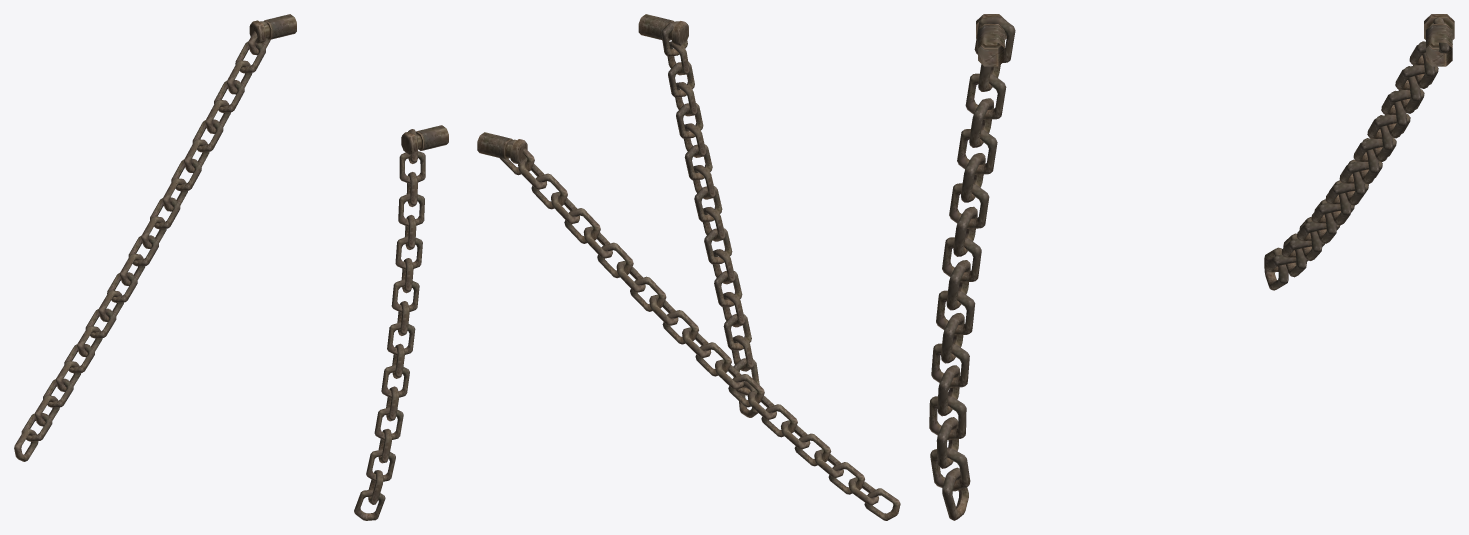
The picture shows the model from 3 angles, left to right: view 1: azimuth 30°, elevation 25°; view 2: azimuth 150°, elevation 25°; view 3: azimuth 270°, elevation 25°; orthographic projection. The views are drawn at different scales.
Parts seen in each view (by area): view 1: SM_DR_DemonChains_01_LOD0; view 2: SM_DR_DemonChains_01_LOD0; view 3: SM_DR_DemonChains_01_LOD0.
Part boxes in pixels (<box>): SM_DR_DemonChains_01_LOD0: <box>14,14,448,520</box>; SM_DR_DemonChains_01_LOD0: <box>477,14,900,520</box>; SM_DR_DemonChains_01_LOD0: <box>929,14,1454,520</box>.
Size of the model in its own units: 4.79 by 5.01 by 4.4.
1 material, 1 textured.
